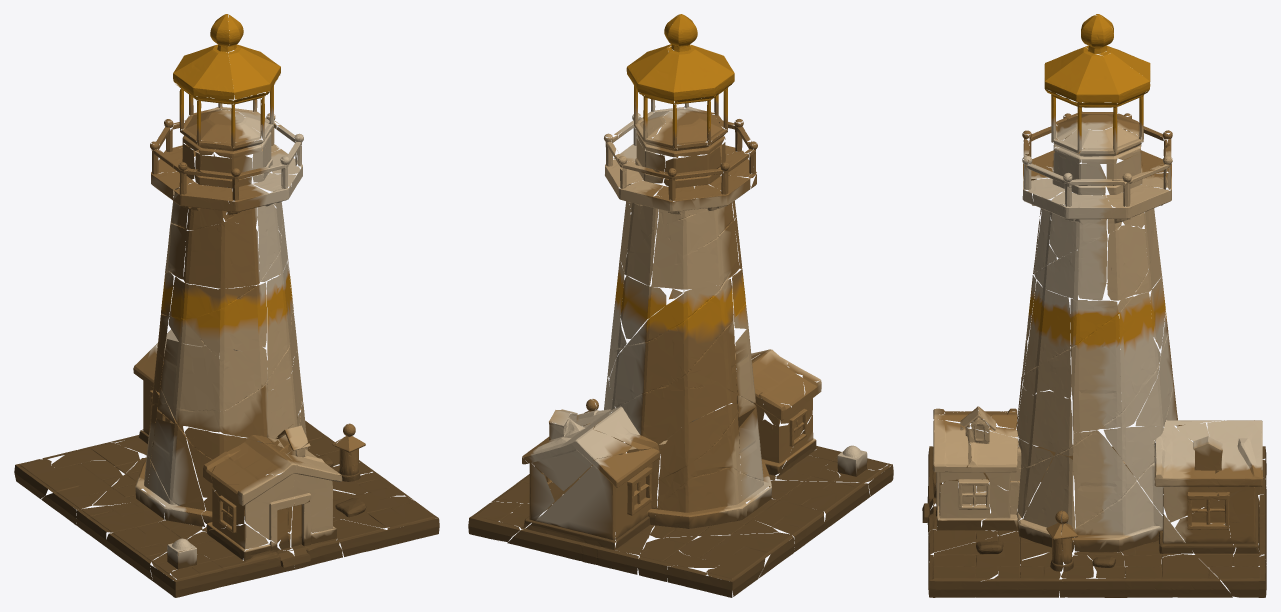
The model's file is decor-lighthouse.glb.
3 renders of one model, left to right at view 1: azimuth 30°, elevation 25°; view 2: azimuth 150°, elevation 25°; view 3: azimuth 270°, elevation 25°, orthographic. The views are drawn at different scales.
Parts seen in each view (by area): view 1: world; view 2: world; view 3: world.
Boxes of the visible parts, x1,y1,x2,y2 form: world: [14, 14, 439, 597]; world: [468, 14, 893, 597]; world: [922, 14, 1266, 597].
Bounding box in the file's own units: 2.51 × 4.48 × 2.7.
